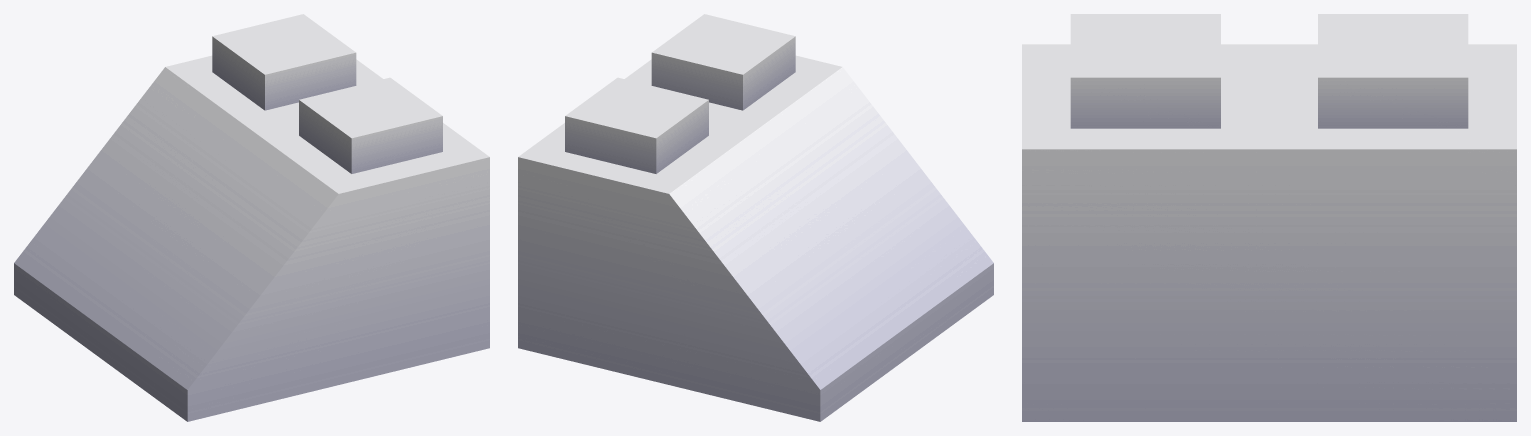
Rendered from square_lq_brick_slope_2x2.glb.
3 renders of one model, left to right at view 1: azimuth 30°, elevation 25°; view 2: azimuth 150°, elevation 25°; view 3: azimuth 270°, elevation 25°, orthographic. The views are drawn at different scales.
Visible parts, largest first — view 1: square-lq-brick-slope-2x2; view 2: square-lq-brick-slope-2x2; view 3: square-lq-brick-slope-2x2.
Part boxes in pixels (x1,y1,x2,y2): square-lq-brick-slope-2x2: (14, 14, 489, 421); square-lq-brick-slope-2x2: (518, 14, 993, 421); square-lq-brick-slope-2x2: (1022, 14, 1516, 421).
Size of the model in its own units: 0.159 by 0.114 by 0.158.
Materials: 1 (1 with a texture image).
